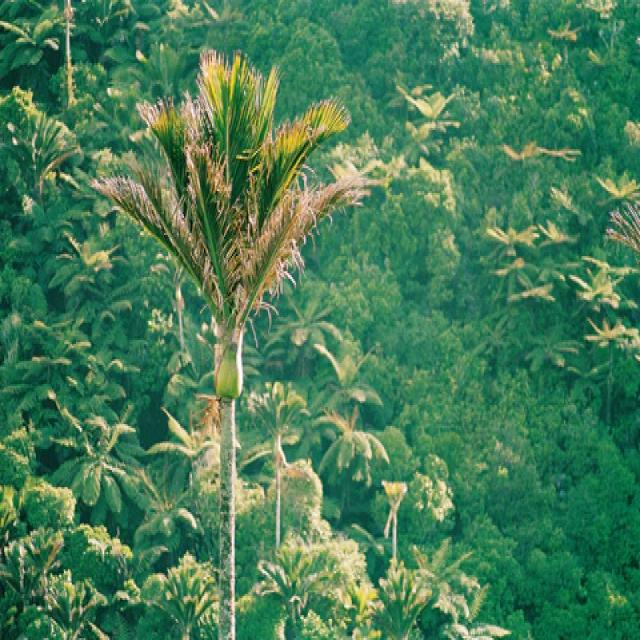Nikua: (99, 53, 379, 640)
